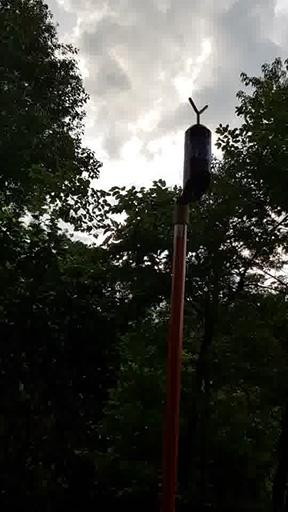Detector_Tensao_Contato: (182, 96, 214, 206)
Vara_Manobra: (161, 202, 193, 512)
